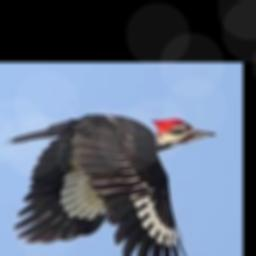Woodpecker: (1, 113, 215, 256)
